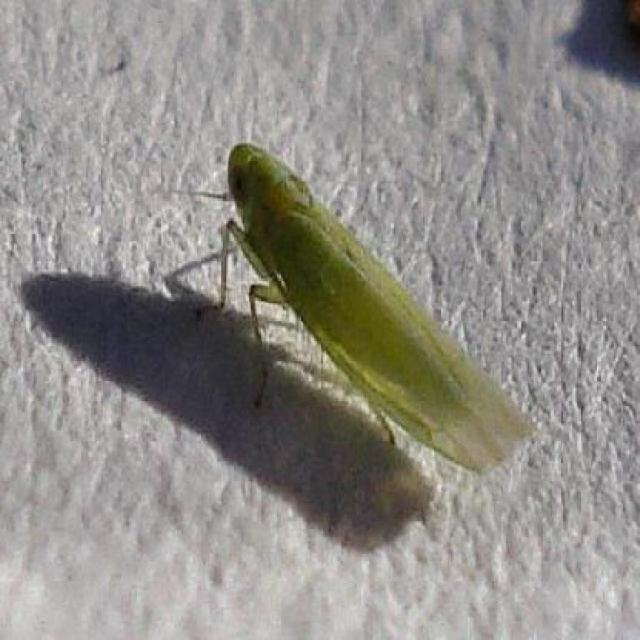green-leafhopper: (220, 140, 520, 472)
